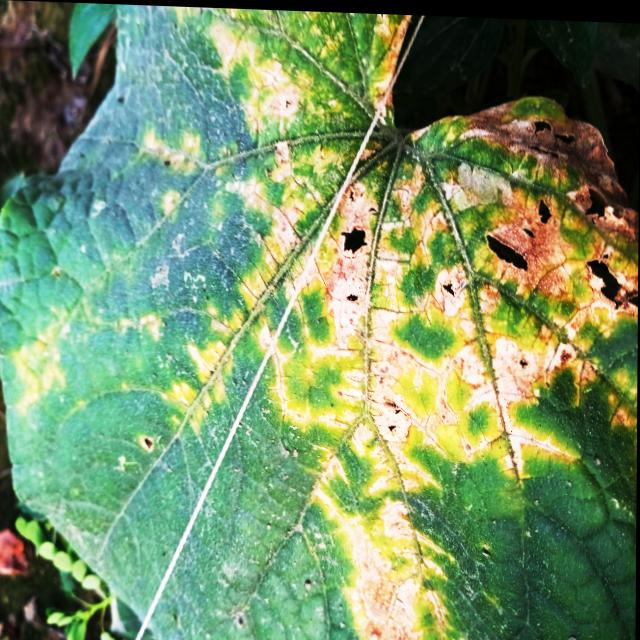Anthracnose: (484, 195, 555, 278), (582, 251, 638, 312), (338, 179, 379, 258), (524, 111, 579, 164), (582, 178, 612, 223), (438, 275, 459, 307)
